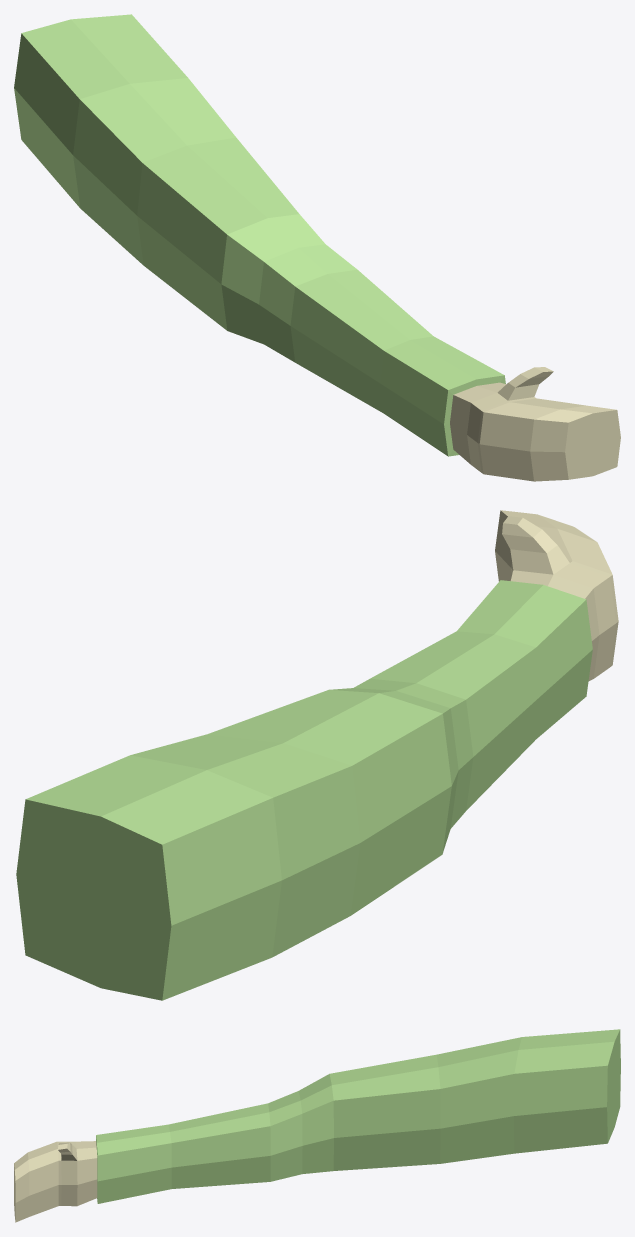
Rendered from right_arm.fbx.
3 views of the same model, one above another, from view 1: azimuth 30°, elevation 25°; view 2: azimuth 150°, elevation 25°; view 3: azimuth 270°, elevation 25° (orthographic). The views are drawn at different scales.
Parts seen in each view (by area): view 1: Cube.001, Cube.002, Cube; view 2: Cube.001, Cube.002, Cube; view 3: Cube.001, Cube.002, Cube.
Boxes of the visible parts, x1=… form: Cube.001: x1=14, y1=14, x2=325, y2=344; Cube.002: x1=259, y1=244, x2=505, y2=456; Cube: x1=450, y1=367, x2=620, y2=481; Cube.001: x1=16, y1=688, x2=458, y2=1000; Cube.002: x1=354, y1=580, x2=592, y2=828; Cube: x1=495, y1=510, x2=618, y2=680; Cube.001: x1=298, y1=1029, x2=620, y2=1173; Cube.002: x1=96, y1=1091, x2=302, y2=1203; Cube: x1=14, y1=1141, x2=97, y2=1222.
Bounding box in the file's own units: 101 × 89.18 × 360.
